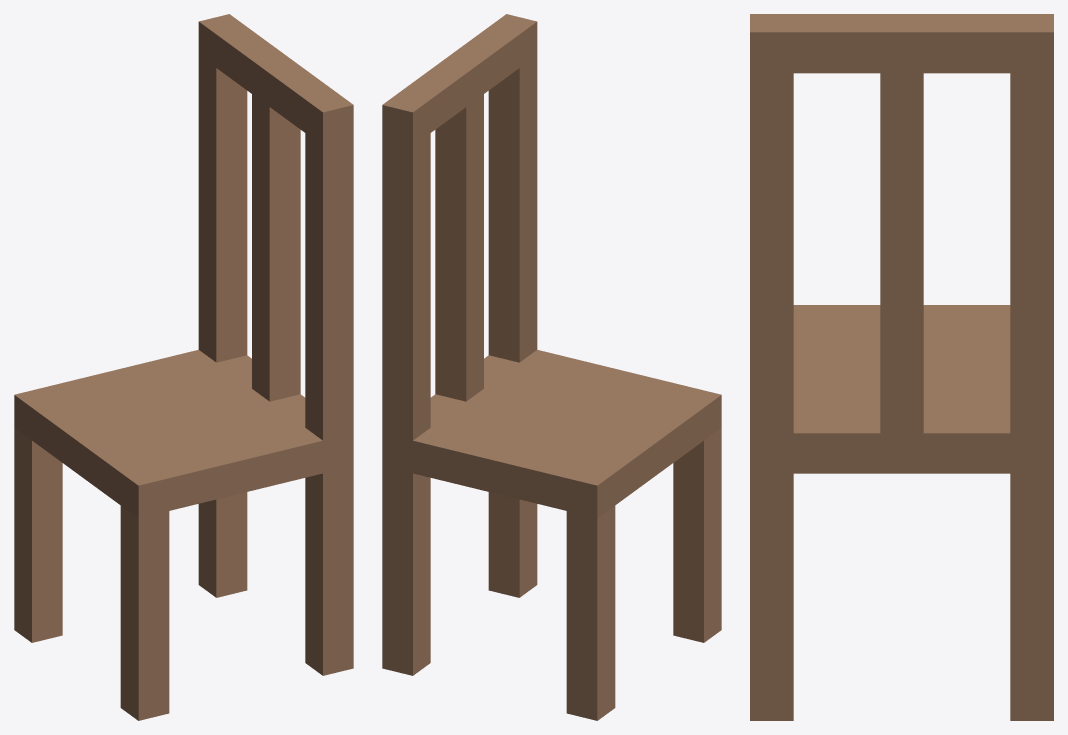
The model's file is chair.fbx.
3 renders of one model, left to right at view 1: azimuth 30°, elevation 25°; view 2: azimuth 150°, elevation 25°; view 3: azimuth 270°, elevation 25°, orthographic. The views are drawn at different scales.
Visible parts, largest first — view 1: Cube; view 2: Cube; view 3: Cube.
Boxes of the visible parts, x1,y1,x2,y2 form: Cube: (14, 14, 353, 720); Cube: (382, 14, 721, 720); Cube: (750, 14, 1053, 720).
Size of the model in its own units: 589 by 1474 by 589.
